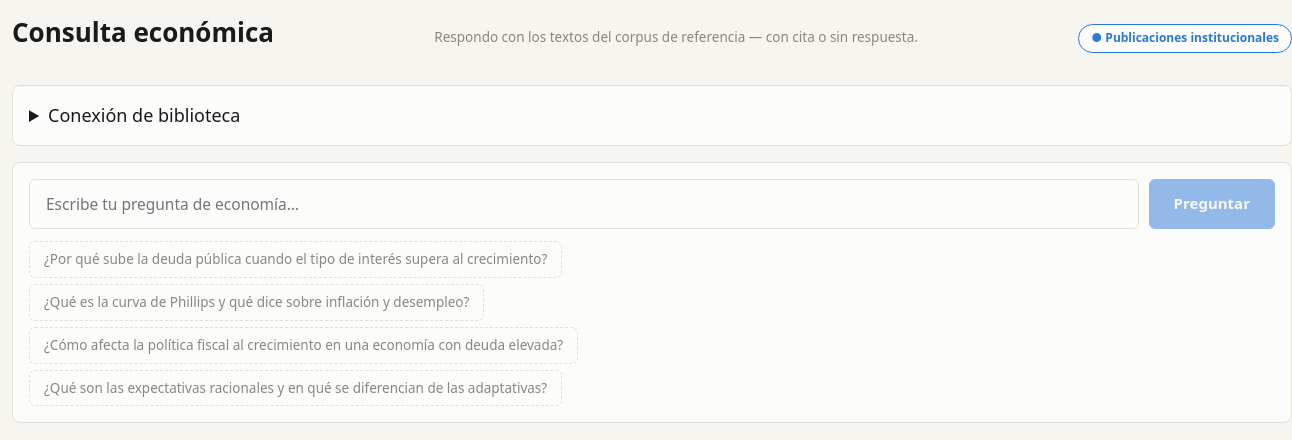
Test: Consulta — available library service › shows the actual stream 503 reason from an otherwise available service
Type "¿Qué es la inflación?" into the field named "Pregunta económica".
click(584, 204); type("¿Qué es la inflación?")  # box [29,180,1139,229]
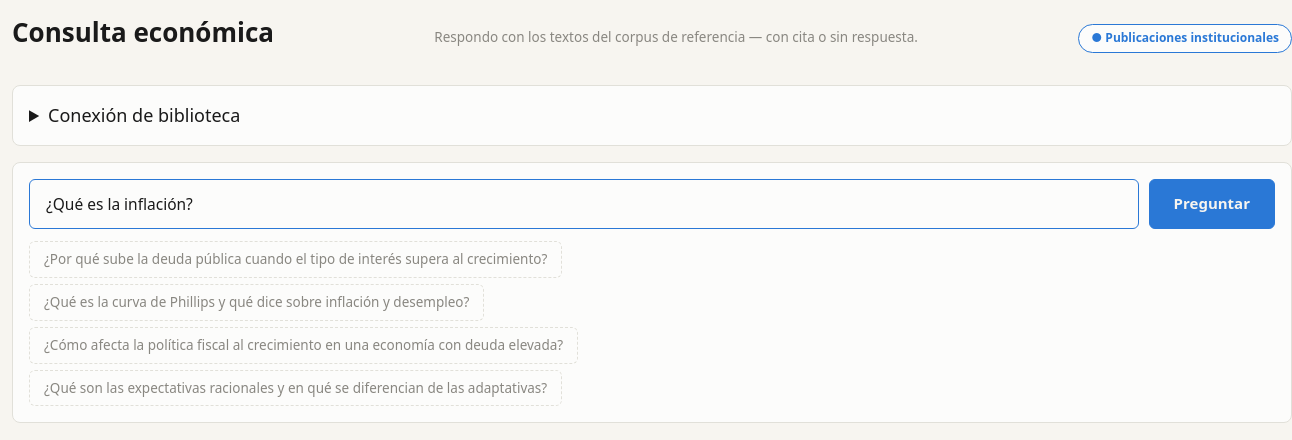
Click the button "Preguntar".
click(1212, 204)  # box [1149,180,1275,229]
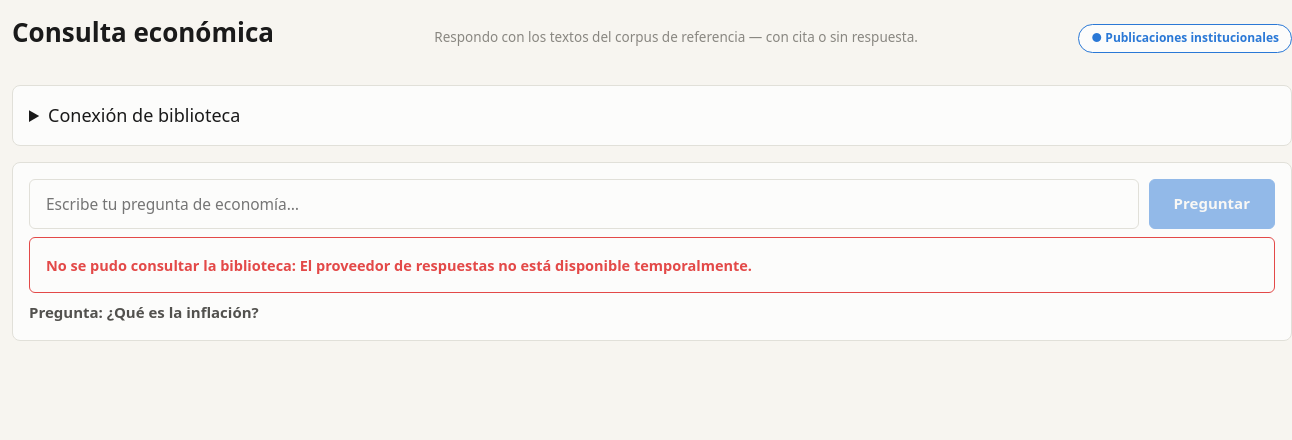
Expected: the field named "Pregunta económica" is enabled, [29,180,1139,229]
Expected: the message shows "El proveedor de respuestas no está disponible temporalmente.", [300,255,752,275]
